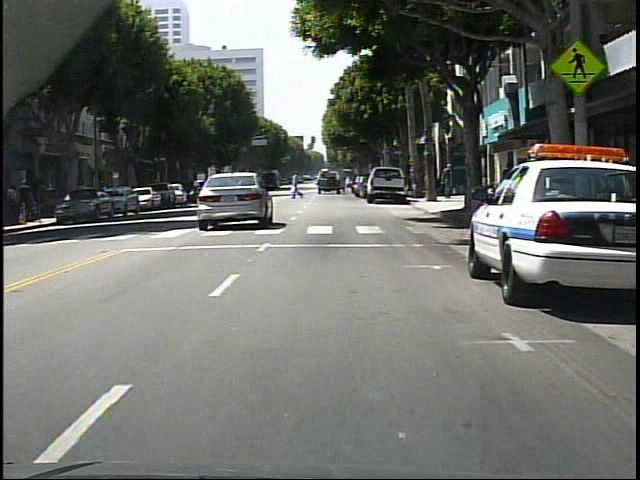person: (440, 162, 457, 202), (20, 180, 35, 225), (8, 185, 21, 224), (289, 170, 305, 201)
